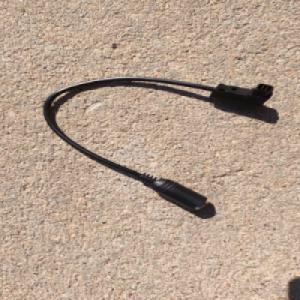Wire: (41, 75, 276, 212)
